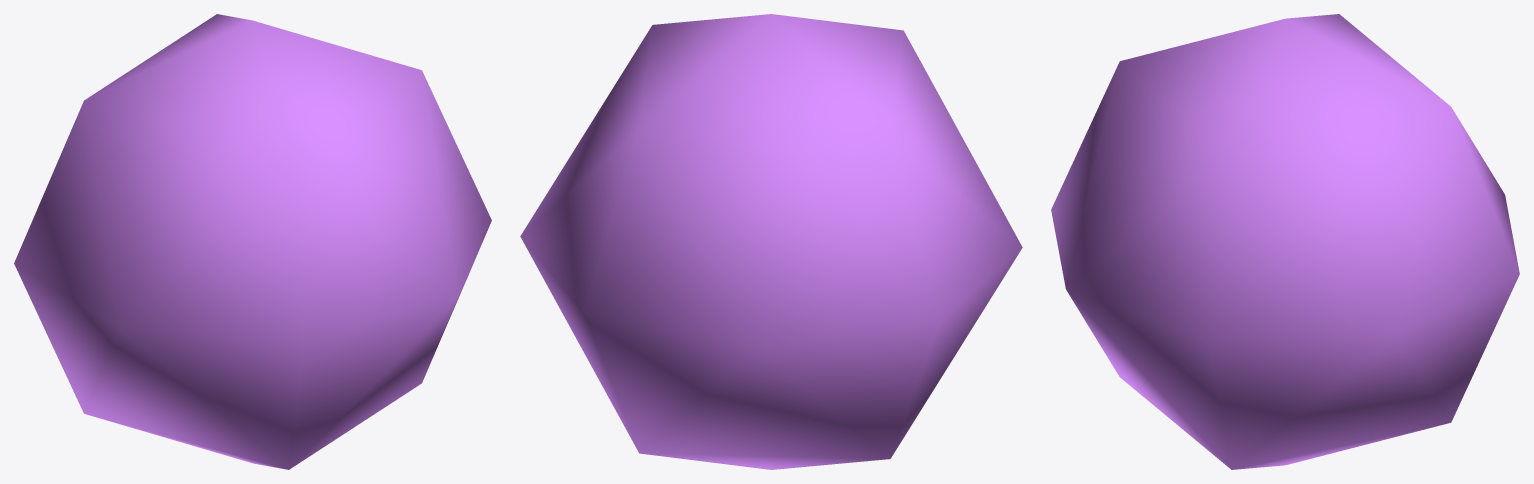
The model's file is CHP10_CINE02_ARKENSTONEANIM.obj.
3 views of the same model, side by side, from view 1: azimuth 30°, elevation 25°; view 2: azimuth 150°, elevation 25°; view 3: azimuth 270°, elevation 25° (orthographic). The views are drawn at different scales.
Parts seen in each view (by area): view 1: Sphere02; view 2: Sphere02; view 3: Sphere02.
Boxes of the visible parts, x1=… form: Sphere02: x1=14, y1=14, x2=491, y2=469; Sphere02: x1=520, y1=14, x2=1022, y2=469; Sphere02: x1=1051, y1=14, x2=1519, y2=469.
Size of the model in its own units: 35.24 by 37.05 by 35.24.
